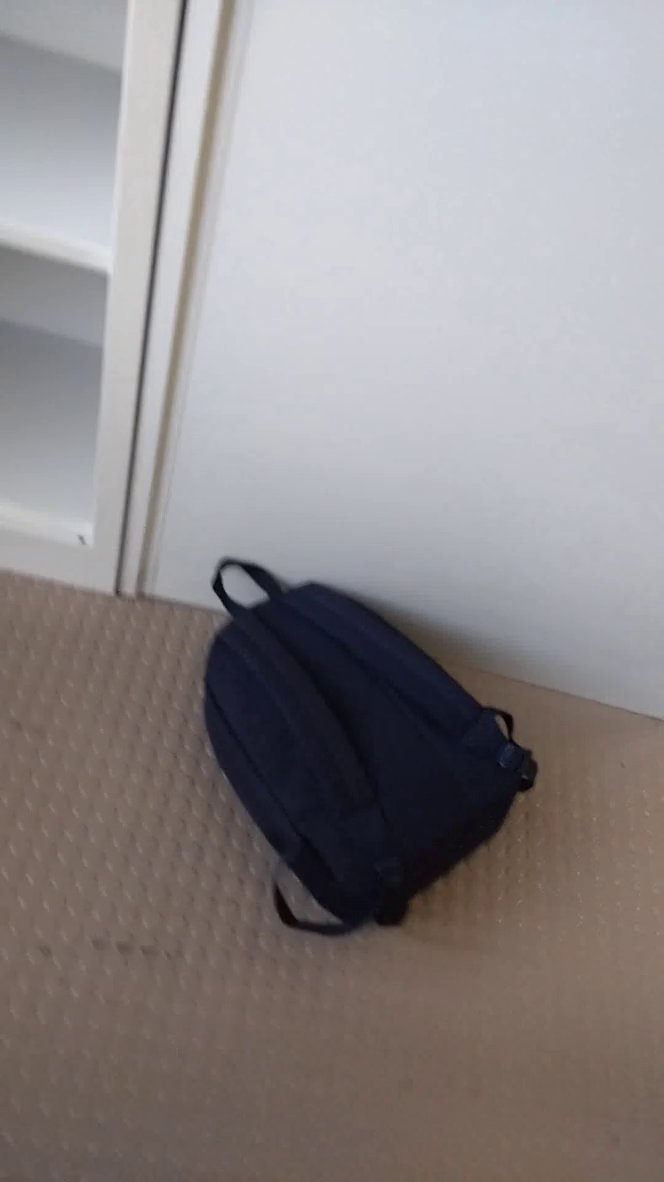bag: (188, 542, 547, 956)
